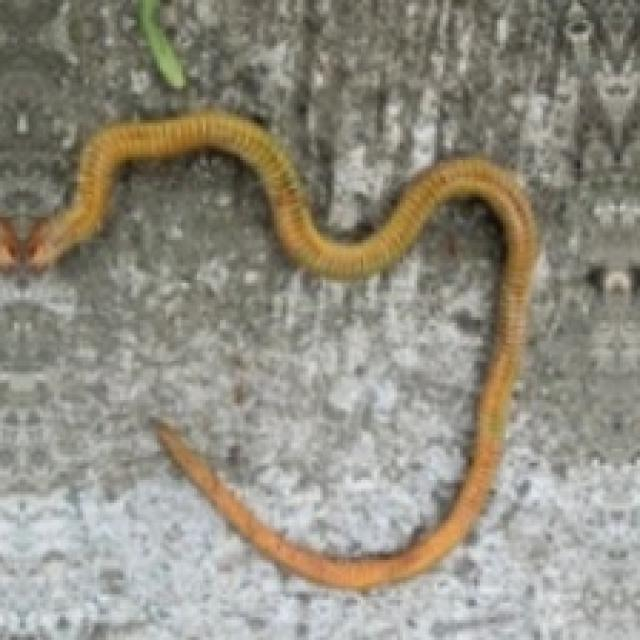gervais worm snake: (0, 111, 534, 589)
